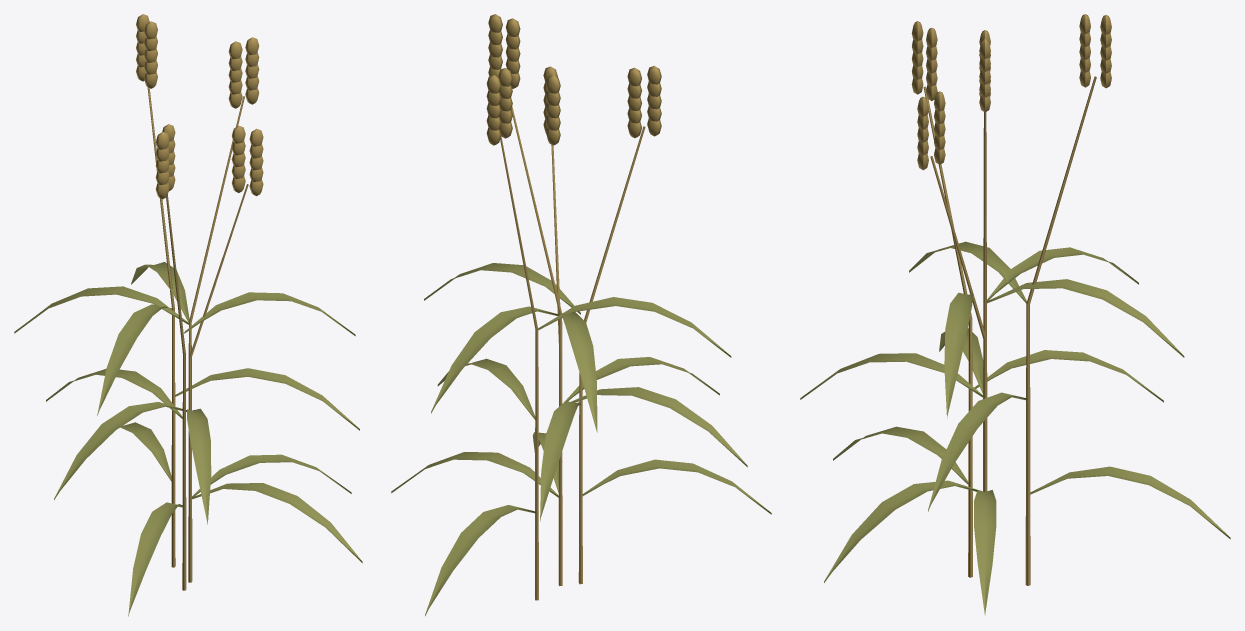
The model's file is trigo.glb.
3 renders of one model, left to right at view 1: azimuth 30°, elevation 25°; view 2: azimuth 150°, elevation 25°; view 3: azimuth 270°, elevation 25°, orthographic. The views are drawn at different scales.
Visible parts, largest first — view 1: trigo; view 2: trigo; view 3: trigo.
Boxes of the visible parts, <box> form: trigo: <box>14,14,362,616</box>; trigo: <box>391,14,771,616</box>; trigo: <box>800,14,1230,615</box>.
Bounding box in the file's own units: 0.6515 × 1.03 × 0.6986.
